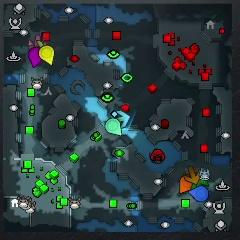p1: (188, 186, 209, 202)
p2: (105, 118, 122, 136)
p3: (28, 47, 42, 67)
p4: (39, 46, 54, 66)
p5: (179, 176, 193, 193)
x1: (28, 35, 40, 47)
x2: (35, 39, 43, 47)
x3: (115, 110, 130, 128)
x4: (191, 178, 211, 188)
x5: (185, 167, 200, 184)
